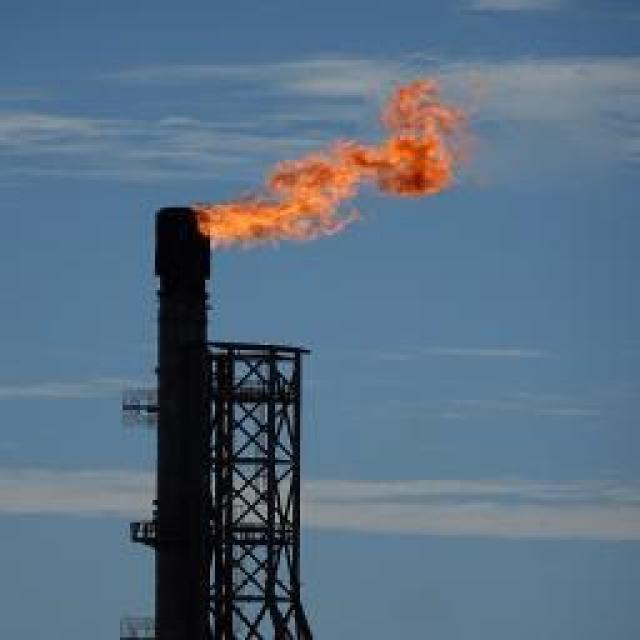fire: (193, 78, 475, 250)
